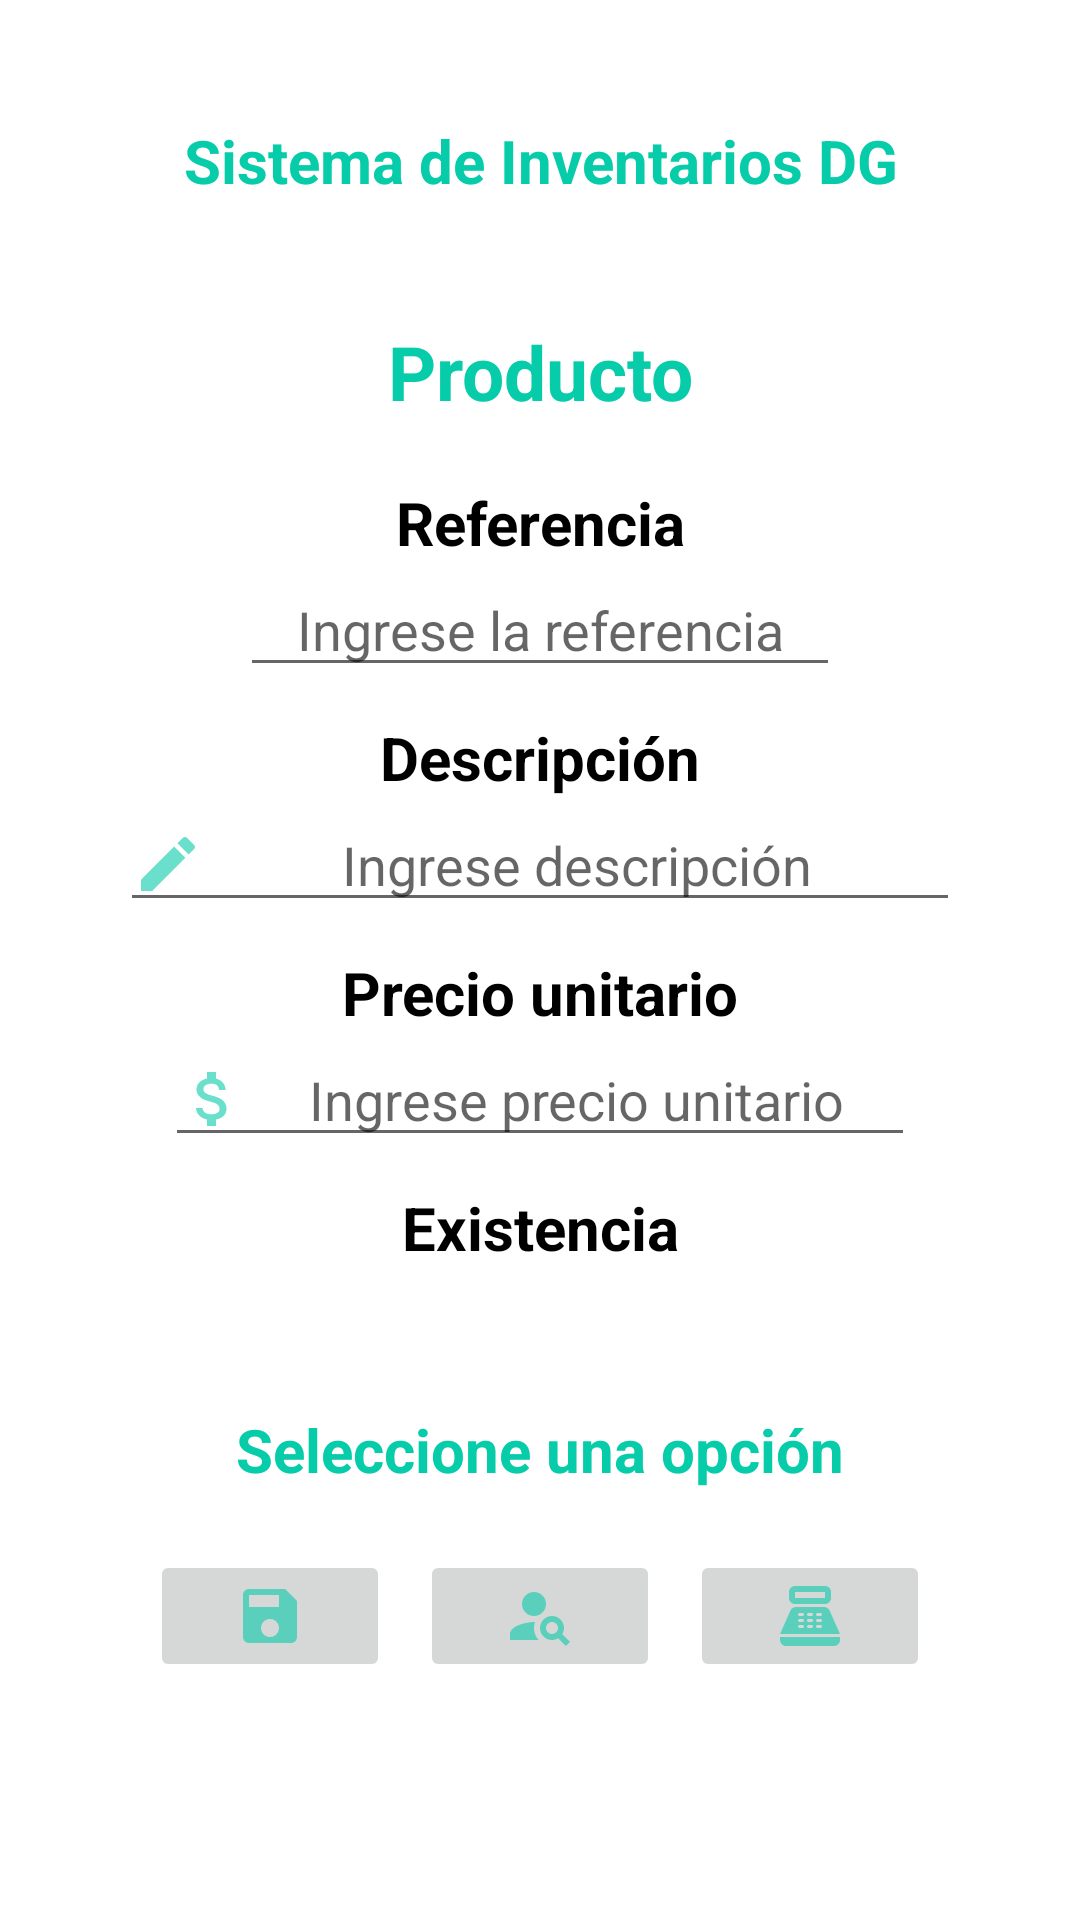

Icons on this 1080w x 1920h Android screen, each with the point to tap as (x=x, y=y):
person search: (x=540, y=1616)
point of sale: (x=810, y=1616)
save: (x=270, y=1616)
